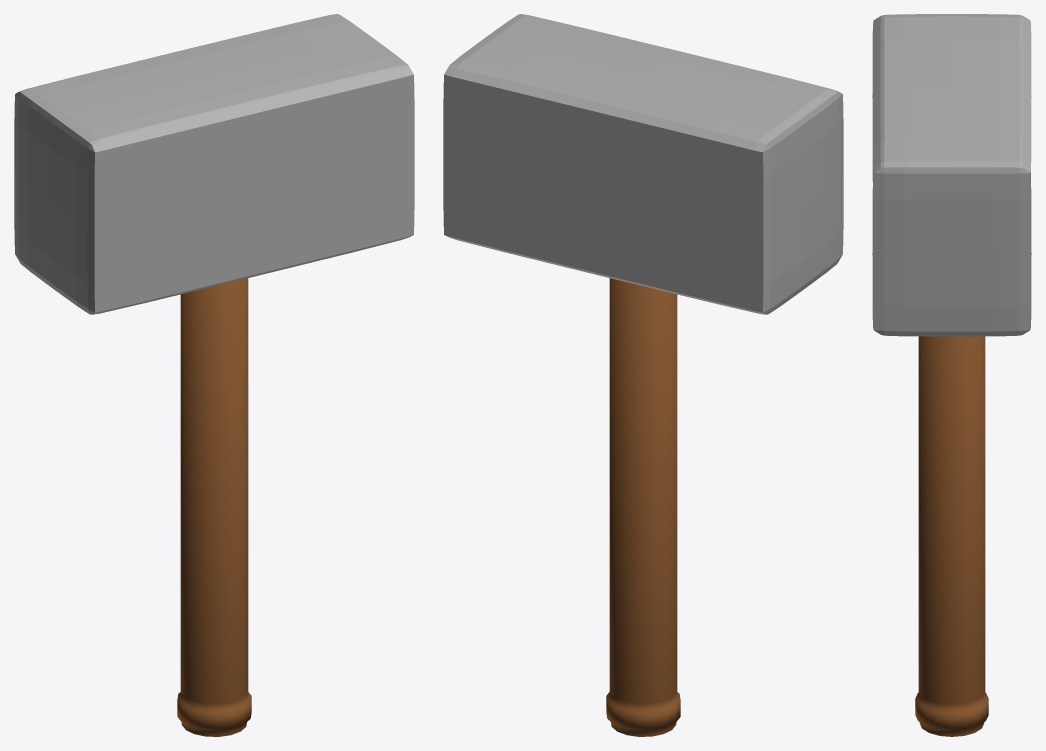
The model's file is hammer.fbx.
3 views of the same model, side by side, from view 1: azimuth 30°, elevation 25°; view 2: azimuth 150°, elevation 25°; view 3: azimuth 270°, elevation 25° (orthographic).
Visible parts, largest first — view 1: Hammer; view 2: Hammer; view 3: Hammer.
Boxes of the visible parts, <box> form: Hammer: <box>14,14,414,736</box>; Hammer: <box>443,14,843,736</box>; Hammer: <box>872,14,1031,736</box>.
Bounding box in the file's own units: 34.01 × 64.67 × 14.66.
